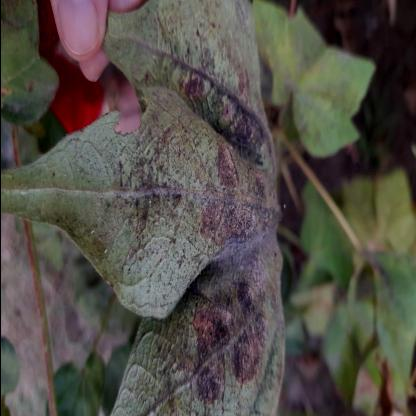curl_stage1: (300, 65, 358, 127), (267, 11, 296, 107)
curl_stage2: (36, 130, 96, 224), (126, 319, 164, 416)
sooty: (113, 109, 266, 275), (190, 259, 267, 416), (180, 146, 266, 252), (184, 20, 249, 153)
